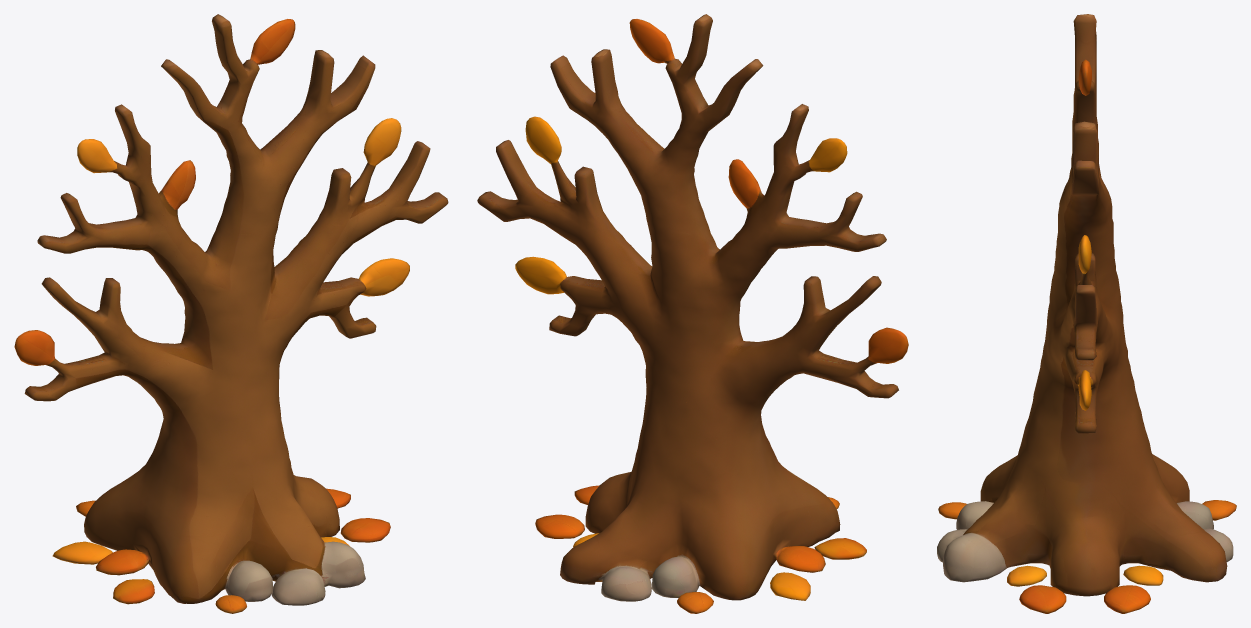
The model's file is dry_tree.glb.
3 views of the same model, side by side, from view 1: azimuth 30°, elevation 25°; view 2: azimuth 150°, elevation 25°; view 3: azimuth 270°, elevation 25° (orthographic).
Visible parts, largest first — view 1: Mesh_0.002; view 2: Mesh_0.002; view 3: Mesh_0.002.
Part boxes in pixels (x1,y1,x2,y2): Mesh_0.002: [14, 14, 448, 613]; Mesh_0.002: [477, 14, 908, 613]; Mesh_0.002: [937, 14, 1236, 613].
Size of the model in its own units: 0.1003 by 0.12 by 0.0611.
Materials: 1 (1 with a texture image).
